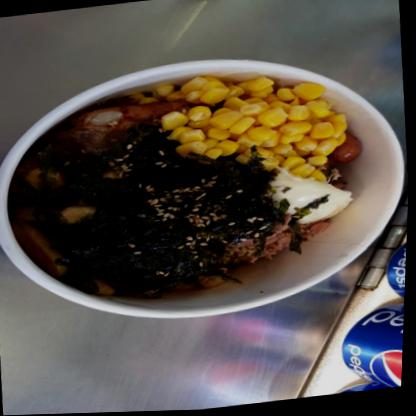cup rice: (4, 50, 384, 321)
